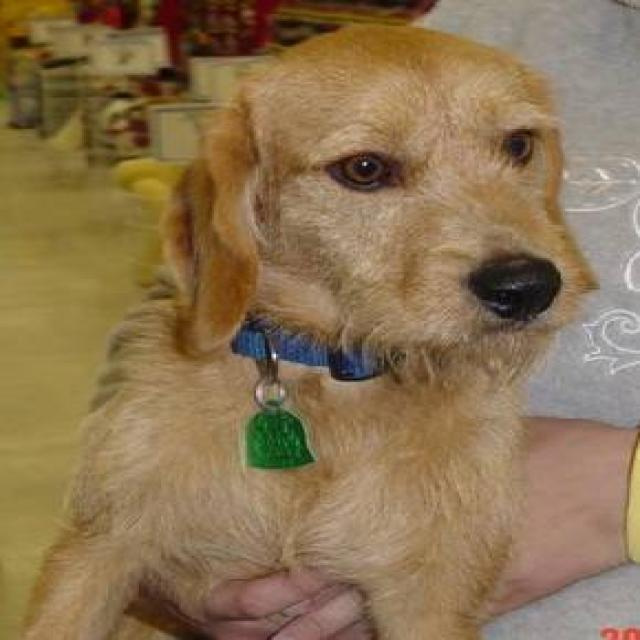dog: (4, 21, 600, 638)
